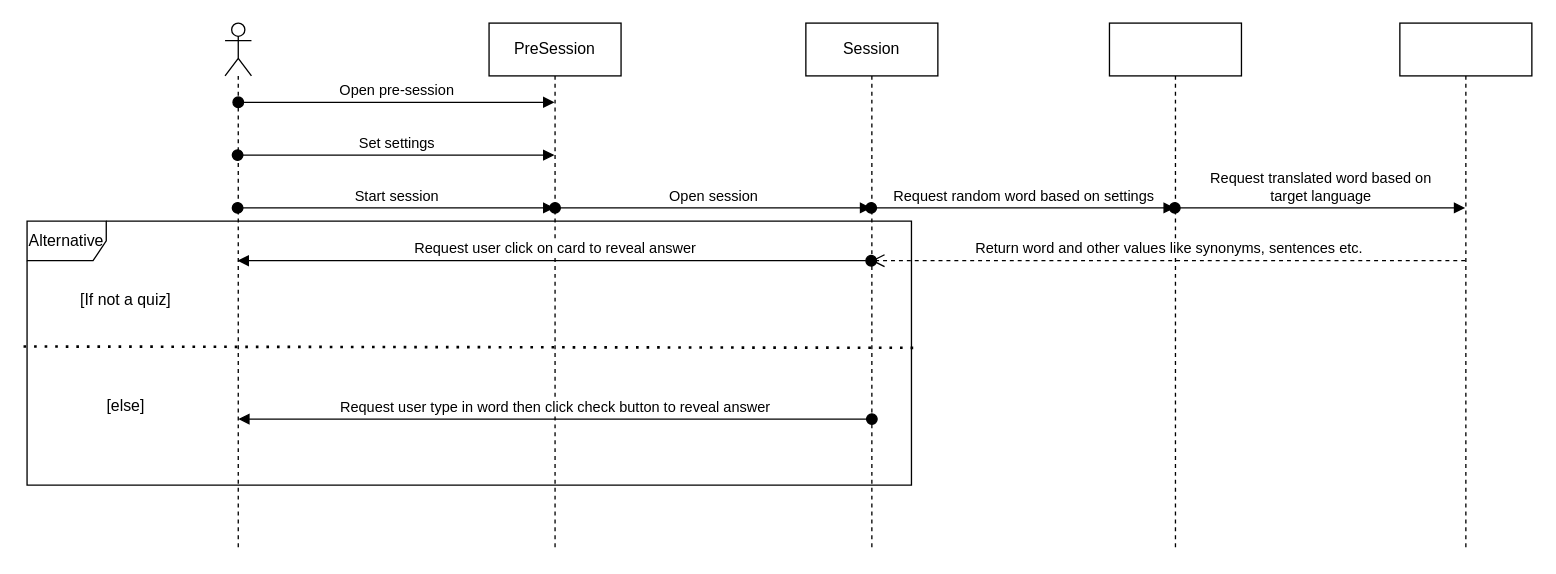
Image size: 1556x574. Some labels were removed from this diagram. Each missing label, with the box of its shape:
WordGenAPI: (1108, 22, 1241, 551)
WordTranslateAPI: (1399, 22, 1532, 551)
